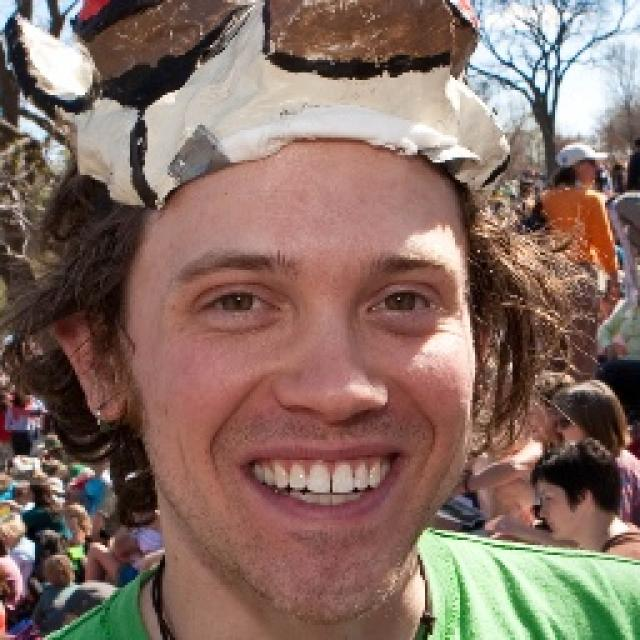earlobe: (41, 280, 130, 423)
